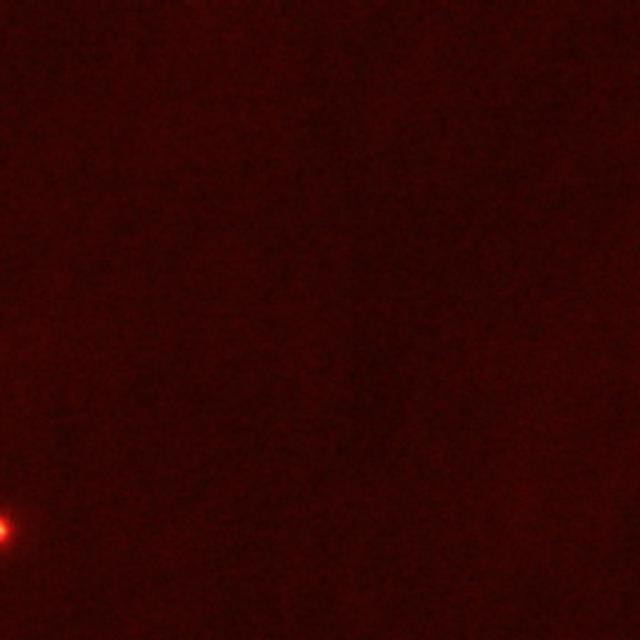Fragment: (0, 512, 12, 546)
